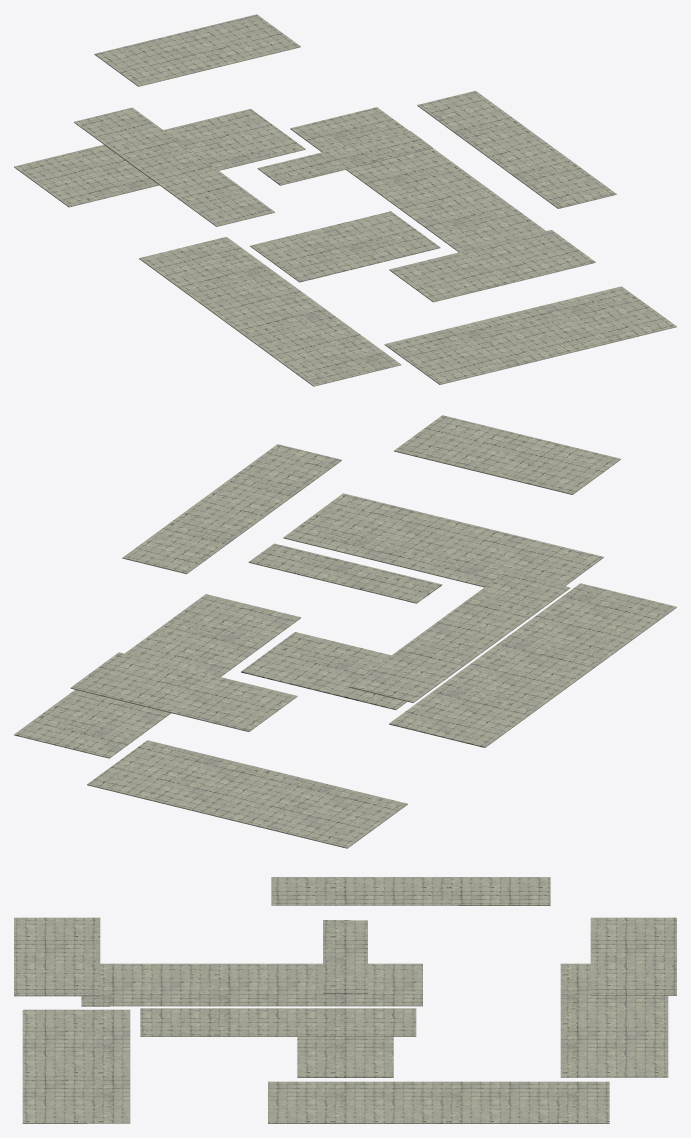
File: SM_LDFest_27_Wire.fbx
3 views of the same model, one above another, from view 1: azimuth 30°, elevation 25°; view 2: azimuth 150°, elevation 25°; view 3: azimuth 270°, elevation 25° (orthographic). The views are drawn at different scales.
Visible parts, largest first — view 1: SM_LDFest_27_Wire, SM_LDFest_27_Wire.001; view 2: SM_LDFest_27_Wire, SM_LDFest_27_Wire.001; view 3: SM_LDFest_27_Wire, SM_LDFest_27_Wire.001.
Part boxes in pixels (bbox=[...]): SM_LDFest_27_Wire: bbox=[14, 14, 676, 385]; SM_LDFest_27_Wire.001: bbox=[14, 46, 676, 386]; SM_LDFest_27_Wire: bbox=[14, 415, 676, 847]; SM_LDFest_27_Wire.001: bbox=[14, 450, 676, 848]; SM_LDFest_27_Wire: bbox=[14, 877, 676, 1122]; SM_LDFest_27_Wire.001: bbox=[14, 905, 676, 1123].
Size of the model in its own units: 1801 by 462 by 3166.
